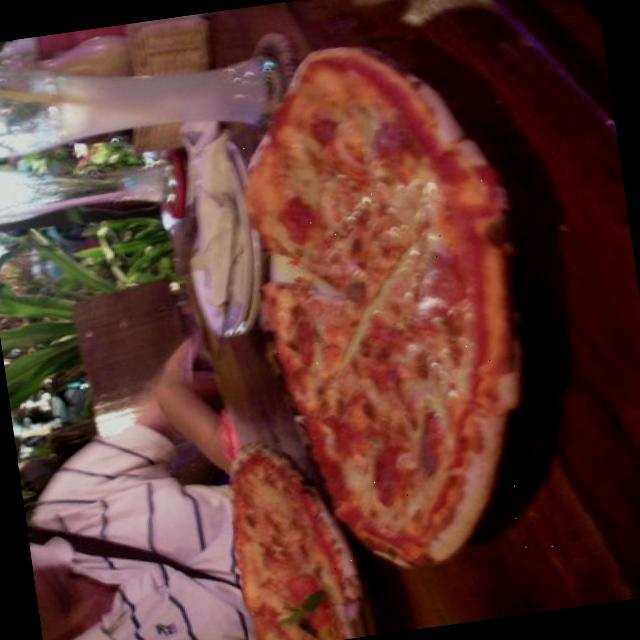pizza: (248, 48, 520, 566), (232, 446, 370, 640)
